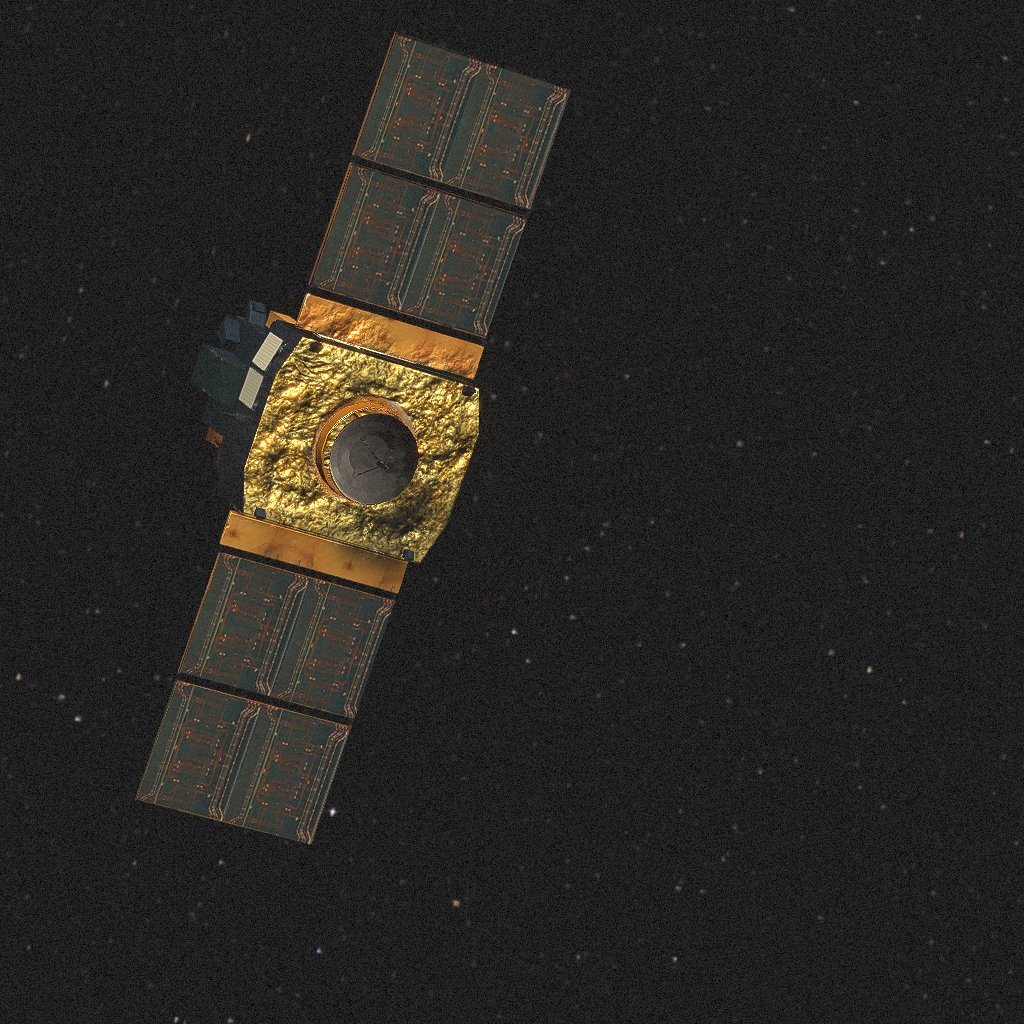soho: (139, 39, 571, 819)
